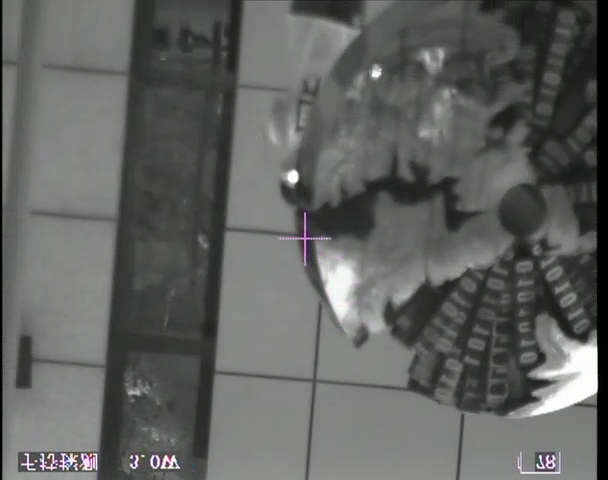my: (286, 168, 300, 184)
